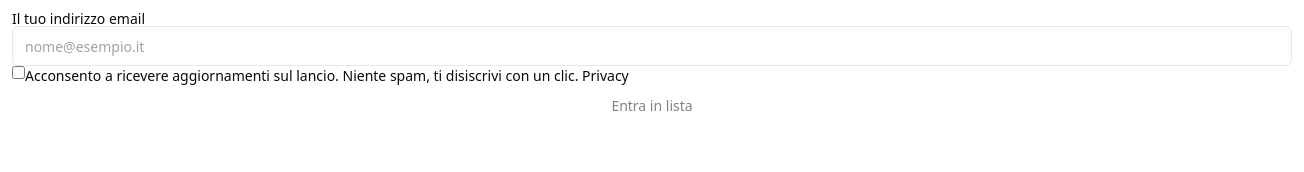
Test: PUB-241/242 WaitlistForm — stati, confine /api/waitlist, consenso GDPR › AC-241-1: email valida + consenso, 200 "inserted" => testo successNew e POST a /api/waitlist
Type "mario@bar.it" into the field labelled "Il tuo indirizzo email" at point(652, 46), box [12, 26, 1292, 66]
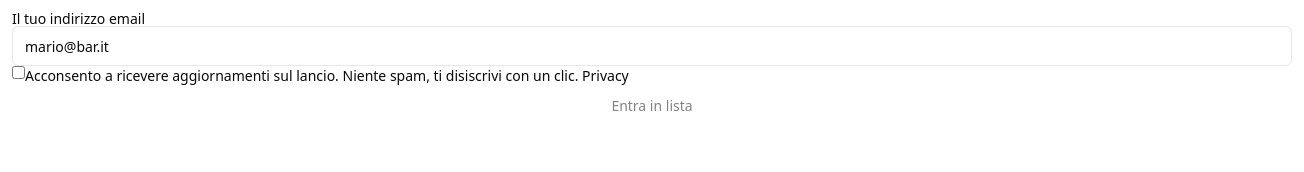
Click the checkbox at point(18, 72), box [12, 66, 25, 79]
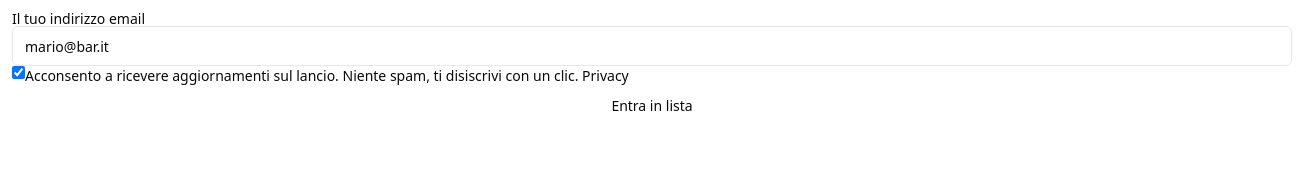
Click the button "Entra in lista" at point(652, 106), box [12, 86, 1292, 126]
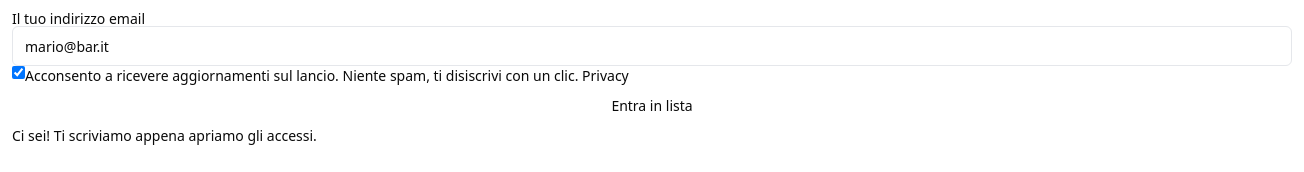
Check: the text "Ci sei! Ti scriviamo appena apriamo gli accessi." is shown, box [12, 126, 317, 145]
